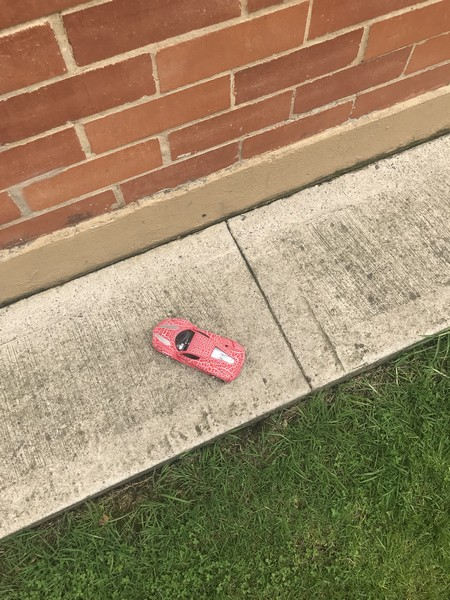RC: (149, 320, 249, 387)
